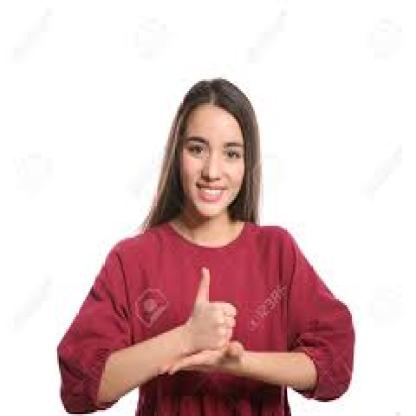help: (147, 254, 268, 404)
